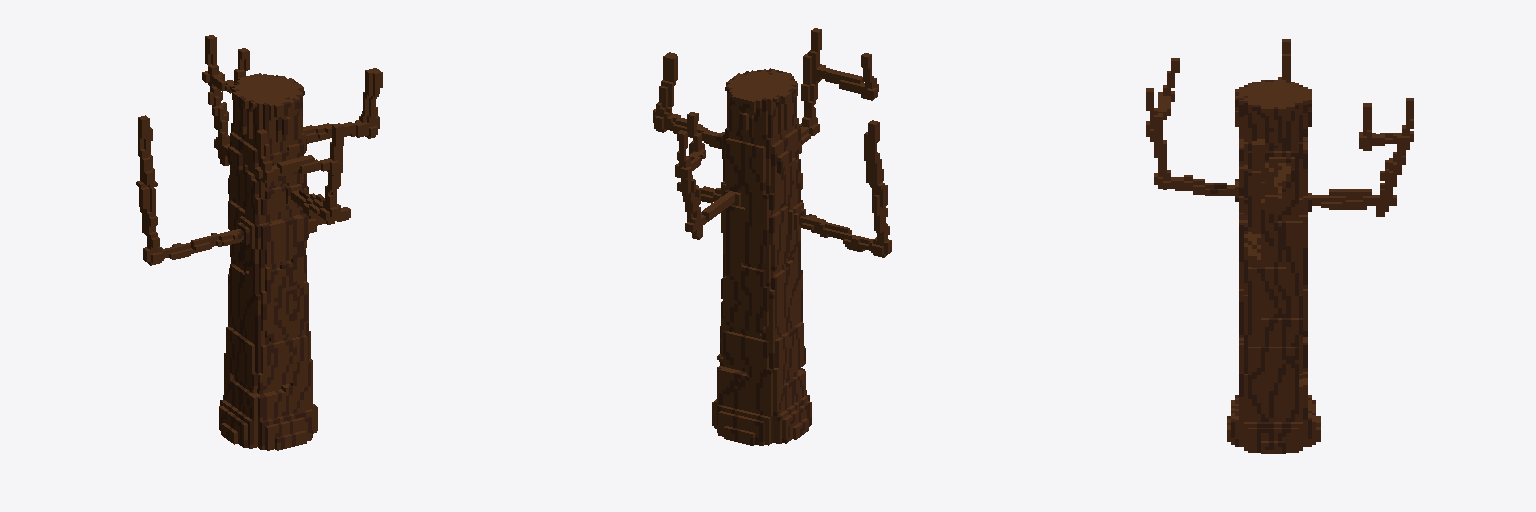
The picture shows the model from 3 angles: view 1: azimuth 30°, elevation 25°; view 2: azimuth 150°, elevation 25°; view 3: azimuth 270°, elevation 25°; orthographic projection.
Parts seen in each view (by area): view 1: object 1; view 2: object 1; view 3: object 1.
Boxes of the visible parts, box(x1,y1,x2,y2) form: object 1: box(136, 35, 382, 450); object 1: box(653, 28, 891, 445); object 1: box(1146, 39, 1413, 453).
Bounding box in the file's own units: 6.3 × 9 × 6.3.
Materials: 1 (1 with a texture image).